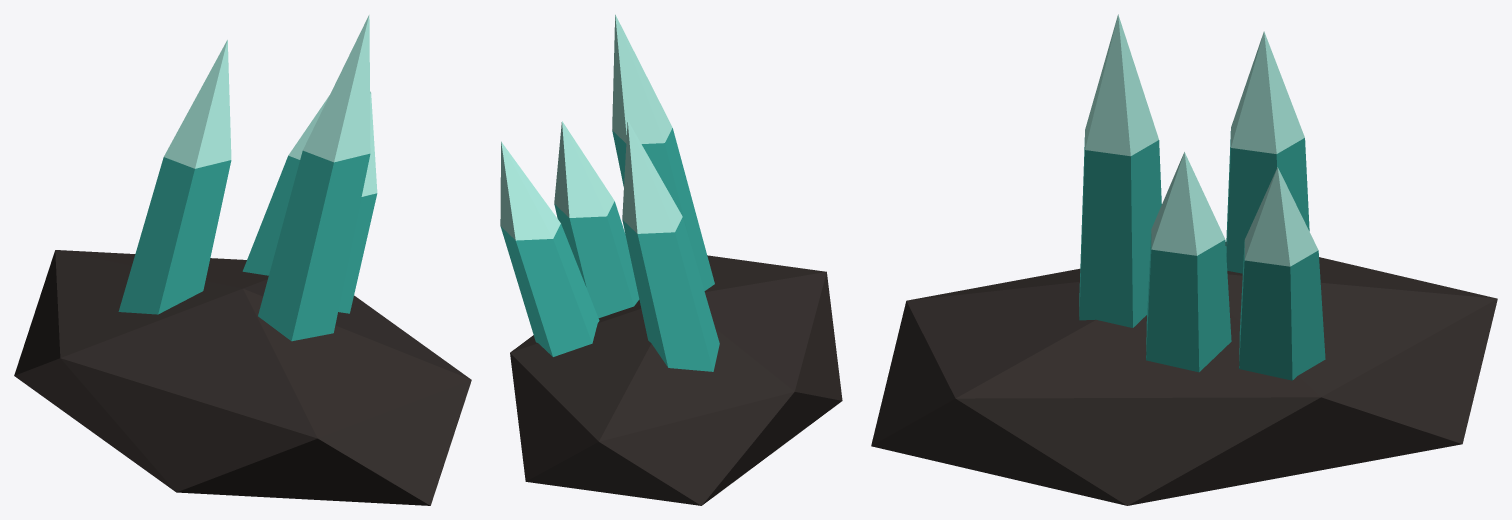
Rendered from AbyssCrystal_A.fbx.
3 renders of one model, left to right at view 1: azimuth 30°, elevation 25°; view 2: azimuth 150°, elevation 25°; view 3: azimuth 270°, elevation 25°, orthographic. The views are drawn at different scales.
Visible parts, largest first — view 1: AbyssCrystal_A; view 2: AbyssCrystal_A; view 3: AbyssCrystal_A.
Boxes of the visible parts, left/top/right/bottom form: AbyssCrystal_A: left=14, top=15, right=471, bottom=505; AbyssCrystal_A: left=500, top=14, right=842, bottom=505; AbyssCrystal_A: left=871, top=14, right=1497, bottom=505.
Bounding box in the file's own units: 0.8127 × 1.11 × 1.22.
1 material, 1 textured.
